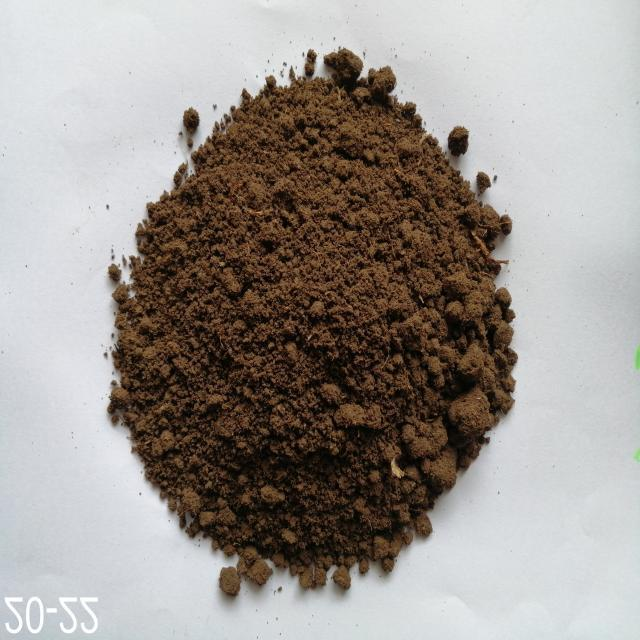soil: (176, 145, 438, 519)
